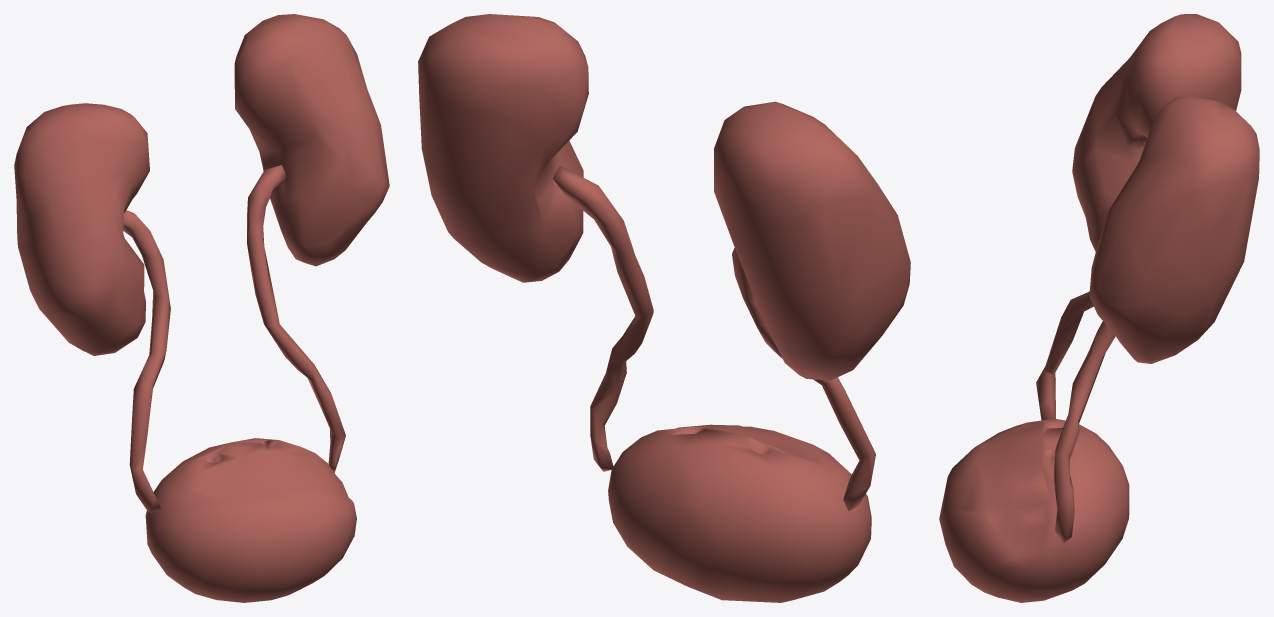
File: pediatric_neonate_male.urinary.LOD2.glb
3 views of the same model, side by side, from view 1: azimuth 30°, elevation 25°; view 2: azimuth 150°, elevation 25°; view 3: azimuth 270°, elevation 25° (orthographic). The views are drawn at different scales.
Visible parts, largest first — view 1: PEDIATRIC.NEONATE.MALE.URINARY.KIDNEY_CORTEX.R, PEDIATRIC.NEONATE.MALE.URINARY.KIDNEY_CORTEX.L, PEDIATRIC.NEONATE.MALE.URINARY.URINARY_BLADDER_WALL, PEDIATRIC.NEONATE.MALE.URINARY.URETER.L, PEDIATRIC.NEONATE.MALE.URINARY.URETER.R; view 2: PEDIATRIC.NEONATE.MALE.URINARY.KIDNEY_CORTEX.R, PEDIATRIC.NEONATE.MALE.URINARY.KIDNEY_CORTEX.L, PEDIATRIC.NEONATE.MALE.URINARY.URINARY_BLADDER_WALL, PEDIATRIC.NEONATE.MALE.URINARY.URETER.L, PEDIATRIC.NEONATE.MALE.URINARY.URETER.R; view 3: PEDIATRIC.NEONATE.MALE.URINARY.KIDNEY_CORTEX.L, PEDIATRIC.NEONATE.MALE.URINARY.URINARY_BLADDER_WALL, PEDIATRIC.NEONATE.MALE.URINARY.KIDNEY_CORTEX.R, PEDIATRIC.NEONATE.MALE.URINARY.URETER.L, PEDIATRIC.NEONATE.MALE.URINARY.URETER.R.
Boxes of the visible parts, box(x1,y1,x2,y2) form: PEDIATRIC.NEONATE.MALE.URINARY.KIDNEY_CORTEX.R: box(14, 103, 149, 355); PEDIATRIC.NEONATE.MALE.URINARY.KIDNEY_CORTEX.L: box(234, 14, 389, 266); PEDIATRIC.NEONATE.MALE.URINARY.URINARY_BLADDER_WALL: box(145, 438, 356, 602); PEDIATRIC.NEONATE.MALE.URINARY.URETER.L: box(247, 165, 345, 472); PEDIATRIC.NEONATE.MALE.URINARY.URETER.R: box(123, 210, 170, 513); PEDIATRIC.NEONATE.MALE.URINARY.KIDNEY_CORTEX.R: box(714, 101, 910, 380); PEDIATRIC.NEONATE.MALE.URINARY.KIDNEY_CORTEX.L: box(418, 14, 588, 282); PEDIATRIC.NEONATE.MALE.URINARY.URINARY_BLADDER_WALL: box(608, 424, 871, 602); PEDIATRIC.NEONATE.MALE.URINARY.URETER.L: box(553, 165, 653, 471); PEDIATRIC.NEONATE.MALE.URINARY.URETER.R: box(732, 248, 875, 510); PEDIATRIC.NEONATE.MALE.URINARY.KIDNEY_CORTEX.L: box(1089, 96, 1259, 363); PEDIATRIC.NEONATE.MALE.URINARY.URINARY_BLADDER_WALL: box(939, 418, 1129, 602); PEDIATRIC.NEONATE.MALE.URINARY.KIDNEY_CORTEX.R: box(1072, 14, 1241, 251); PEDIATRIC.NEONATE.MALE.URINARY.URETER.L: box(1053, 321, 1115, 544); PEDIATRIC.NEONATE.MALE.URINARY.URETER.R: box(1036, 291, 1093, 420).
Bounding box in the file's own units: 0.0723 × 0.0956 × 0.0515.
